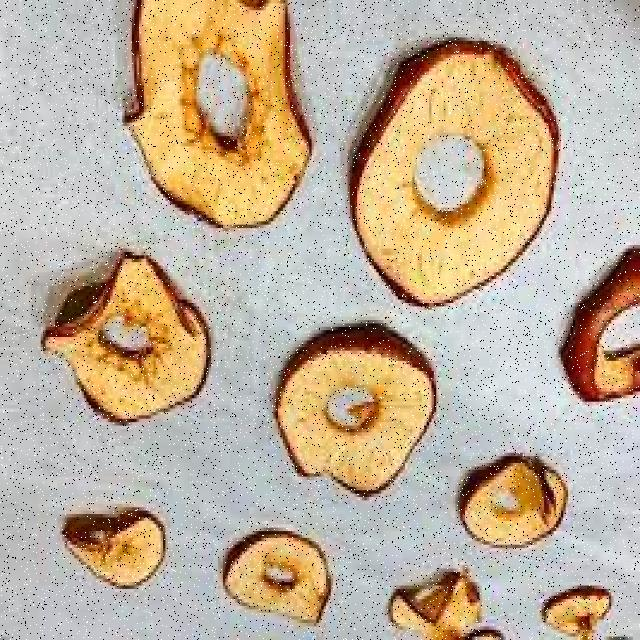Apple: (350, 48, 561, 308), (275, 336, 437, 496), (222, 531, 334, 628)
